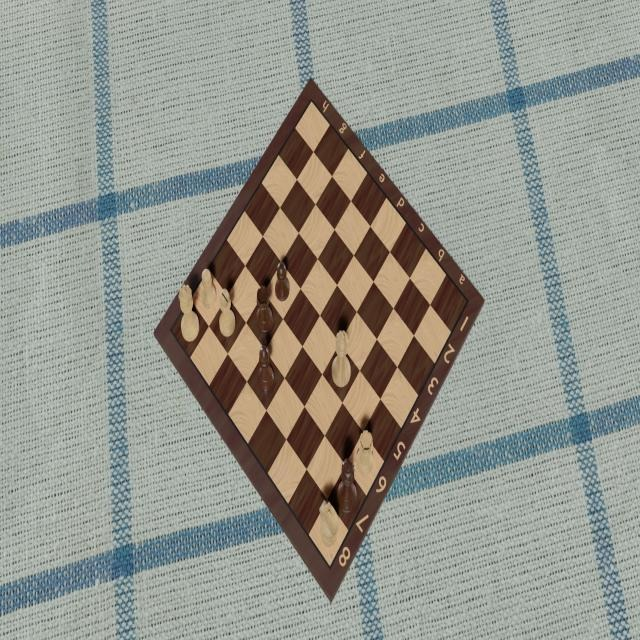black-bishop: (256, 343, 275, 394)
black-king: (336, 456, 358, 514)
black-pawn: (274, 261, 290, 302)
black-rook: (255, 285, 273, 333)
white-bishop: (219, 287, 237, 337)
white-king: (332, 328, 352, 388)
white-knight: (318, 498, 339, 548)
white-pawn: (199, 266, 216, 310)
white-queen: (176, 283, 199, 343)
white-rook: (355, 428, 374, 478)
